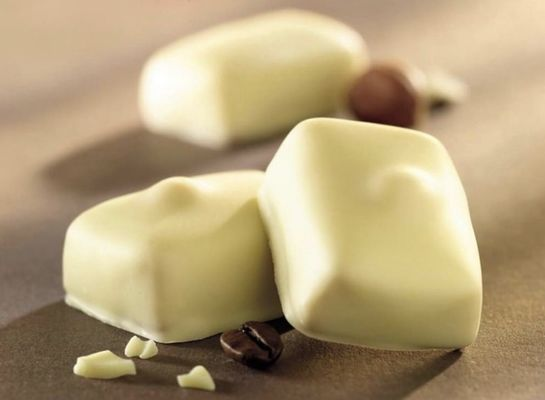steak: (254, 117, 484, 352), (62, 167, 283, 349), (135, 8, 372, 152)
